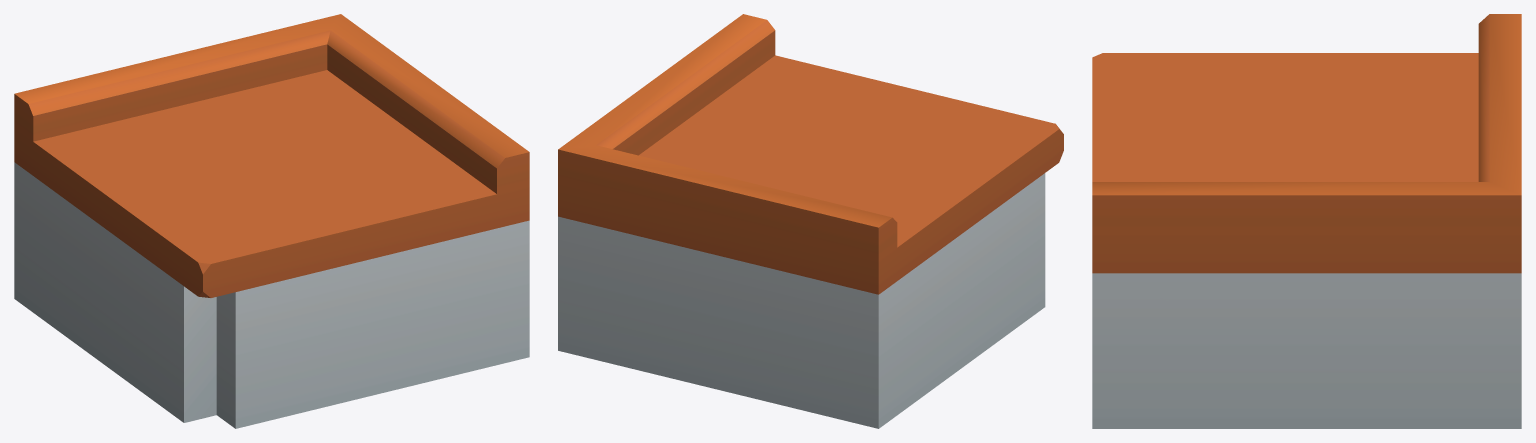
Rendered from base_counter_corner.glb.
The picture shows the model from 3 angles, left to right: view 1: azimuth 30°, elevation 25°; view 2: azimuth 150°, elevation 25°; view 3: azimuth 270°, elevation 25°; orthographic projection. The views are drawn at different scales.
Parts seen in each view (by area): view 1: kitchencounter_innercorner_backsplash; view 2: kitchencounter_innercorner_backsplash; view 3: kitchencounter_innercorner_backsplash.
Part boxes in pixels (left/top/right/bottom): kitchencounter_innercorner_backsplash: left=14, top=14, right=529, bottom=428; kitchencounter_innercorner_backsplash: left=558, top=14, right=1063, bottom=428; kitchencounter_innercorner_backsplash: left=1092, top=14, right=1521, bottom=428.
Bounding box in the file's own units: 2 × 1.2 × 2.
Materials: 1 (1 with a texture image).
